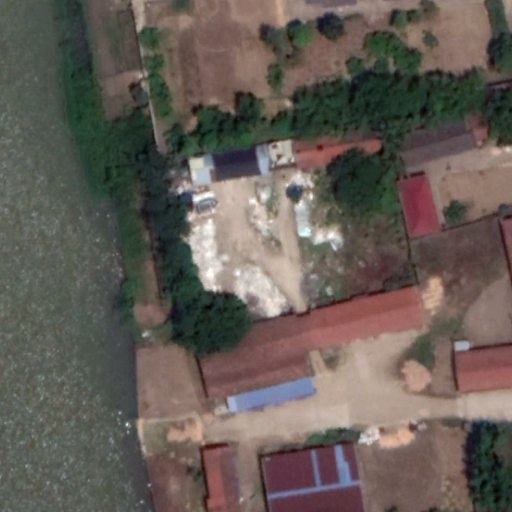msw: (236, 263, 289, 321), (180, 220, 223, 291)
